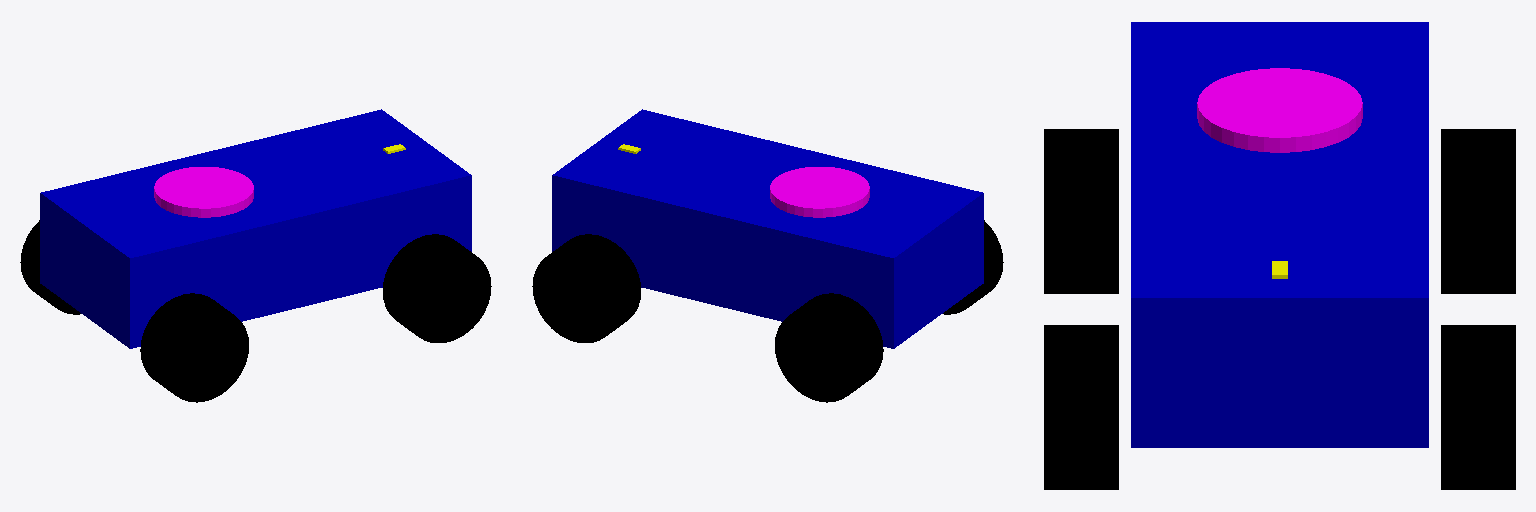
The robot description file, URDF, robot "blinky":
<?xml version="1.0"?>
<robot name="blinky">
  <link name="base_footprint" />

  <link name="base_link">
    <visual>
      <geometry>
        <box size=".395 .18 .1"/>
      </geometry>
      <material name="red">
        <color rgba="0 0 .8 .3"/>
      </material>
    </visual>
  </link>

  <joint name="base_link_joint" type="fixed">
    <parent link="base_footprint"/>
    <child link="base_link"/>
    <origin xyz="0 0 .1"/>
  </joint>

  <link name="rear_right_wheel">
    <visual>
      <geometry>
        <cylinder length=".045" radius=".05"/>
      </geometry>
      <material name="black">
        <color rgba="0 0 0 .7"/>
      </material>
      <origin xyz="0 -.02 0" rpy="1.57075 0 0"/>
    </visual>
  </link>

  <joint name="rear_right_wheel_joint" type="continuous">
    <axis xyz="0 1 0"/>
    <parent link="base_link"/>
    <child link="rear_right_wheel"/>
    <origin xyz="-.14 -.10 -.05"/>
  </joint>

  <link name="rear_left_wheel">
    <visual>
      <geometry>
        <cylinder length=".045" radius=".05"/>
      </geometry>
      <material name="black"/>
      <origin xyz="0 .02 0" rpy="1.57075 0 0"/>
    </visual>
  </link>

  <joint name="rear_left_wheel_joint" type="continuous">
    <axis xyz="0 1 0"/>
    <parent link="base_link"/>
    <child link="rear_left_wheel"/>
    <origin xyz="-.14 0.1 -.05"/>
  </joint>

  <link name="front_right_steering"/>

  <joint name="front_right_steering_joint" type="revolute">
    <limit lower="-1.57075" upper="1.57075" effort="-1" velocity="-1"/>
    <axis xyz="0 0 1"/>
    <parent link="base_link"/>
    <child link="front_right_steering"/>
    <origin xyz=".14 -0.1 -.05"/>
  </joint>

  <link name="front_right_wheel">
    <visual>
      <geometry>
        <cylinder length=".045" radius=".05"/>
      </geometry>
      <material name="black"/>
      <origin xyz="0 -.02 0" rpy="1.57075 0 0"/>
    </visual>
  </link>

  <joint name="front_right_wheel_joint" type="continuous">
    <axis xyz="0 1 0"/>
    <parent link="front_right_steering"/>
    <child link="front_right_wheel"/>
  </joint>

  <link name="front_left_steering"/>
 
  <joint name="front_left_steering_joint" type="revolute">
    <limit lower="-1.57075" upper="1.57075" effort="-1" velocity="-1"/>
    <axis xyz="0 0 1"/>
    <parent link="base_link"/>
    <child link="front_left_steering"/>
    <origin xyz=".14 .1 -.05"/>
  </joint>

  <link name="front_left_wheel">
    <visual>
      <geometry>
        <cylinder length=".045" radius=".05"/>
      </geometry>
      <material name="black"/>
      <origin xyz="0 .02 0" rpy="1.57075 0 0"/>
    </visual>
  </link>

  <joint name="front_left_wheel_joint" type="continuous">
    <axis xyz="0 1 0"/>
    <parent link="front_left_steering"/>
    <child link="front_left_wheel"/>
  </joint>

  <link name="steering_servo">
    <visual>
      <geometry>
        <box size=".04 .02 .01"/>
      </geometry>
      <material name="green">
        <color rgba="0 110 0 .5"/>
      </material>
    </visual>
  </link>

  <joint name="steering_servo_joint" type="fixed">
    <parent link="base_link"/>
    <child link="steering_servo"/>
    <origin xyz=".08 0 -.04"/>
  </joint>

  <transmission name="front_left_steering_trans">
    <type>transmission_interface/SimpleTransmission</type>
    <joint name="front_left_steering_joint">
      <hardwareInterface>hardware_interface/PositionJointInterface</hardwareInterface>
    </joint>
    <actuator name="steering_servo">
      <mechanicalReduction>-2.35</mechanicalReduction>
    </actuator>
  </transmission>

  <transmission name="front_right_steering_trans">
    <type>transmission_interface/SimpleTransmission</type>
    <joint name="front_right_steering_joint">
      <hardwareInterface>hardware_interface/PositionJointInterface</hardwareInterface>
    </joint>
    <actuator name="steering_servo">
      <mechanicalReduction>-2.35</mechanicalReduction>
    </actuator>
  </transmission>

  <transmission name="front_left_wheel_trans">
    <type>transmission_interface/SimpleTransmission</type>
    <joint name="front_left_wheel_joint">
      <hardwareInterface>hardware_interface/VelocityJointInterface</hardwareInterface>
    </joint>
    <actuator name="drive_motor">
      <mechanicalReduction>13.0</mechanicalReduction>
    </actuator>
  </transmission>

  <transmission name="front_right_wheel_trans">
    <type>transmission_interface/SimpleTransmission</type>
    <joint name="front_right_wheel_joint">
      <hardwareInterface>hardware_interface/VelocityJointInterface</hardwareInterface>
    </joint>
    <actuator name="drive_motor">
      <mechanicalReduction>13.0</mechanicalReduction>
    </actuator>
  </transmission>

  <transmission name="rear_left_wheel_trans">
    <type>transmission_interface/SimpleTransmission</type>
    <joint name="rear_left_wheel_joint">
      <hardwareInterface>hardware_interface/VelocityJointInterface</hardwareInterface>
    </joint>
    <actuator name="drive_motor">
      <mechanicalReduction>13.0</mechanicalReduction>
    </actuator>
  </transmission>

  <transmission name="rear_right_wheel_trans">
    <type>transmission_interface/SimpleTransmission</type>
    <joint name="rear_right_wheel_joint">
      <hardwareInterface>hardware_interface/VelocityJointInterface</hardwareInterface>
    </joint>
    <actuator name="drive_motor">
      <mechanicalReduction>13.0</mechanicalReduction>
    </actuator>
  </transmission>

  <link name="lidar">
    <visual>
      <geometry>
        <cylinder length=".02" radius=".05"/>
      </geometry>
      <material name="purple">
        <color rgba="50 0 100 .7"/>
      </material>
    </visual>
  </link> 

  <joint name="lidar_joint" type="fixed">
    <parent link="base_link"/>
    <child link="lidar"/>
    <origin xyz="-.06 0 .05"/>
  </joint>  

  <sensor name="lidar_sensor" update_rate="5">
    <parent link="lidar"/>
    <ray>
      <horizontal/>
    </ray>
  </sensor>

  <link name="imu">
    <visual>
      <geometry>
        <box size=".02 .01 .005"/>
      </geometry>
      <material name="orange">
        <color rgba="255 128 0 .7"/>
      </material>
    </visual>
  </link>

  <joint name="imu_joint" type="fixed">
    <parent link="base_link"/>
    <child link="imu"/>
    <origin xyz=".16 0 .05"/>
  </joint>
</robot>

--- Render facts (derived) ---
3 views of the same robot in one strip: view 1: azimuth 30°, elevation 25°; view 2: azimuth 150°, elevation 25°; view 3: azimuth 270°, elevation 25° (orthographic).
Robot: blinky — 11 links, 10 joints (2 revolute, 4 continuous, 4 fixed); root link base_footprint; default pose: all joints at 0.
Visible links, largest first — view 1: base_link, front_right_wheel, rear_right_wheel, lidar, rear_left_wheel; view 2: base_link, front_left_wheel, rear_left_wheel, lidar, rear_right_wheel; view 3: base_link, rear_right_wheel, rear_left_wheel, front_right_wheel, front_left_wheel, lidar.
Link boxes in pixels (bbox=[...]): base_link: bbox=[40, 109, 471, 348]; front_right_wheel: bbox=[383, 234, 491, 342]; rear_right_wheel: bbox=[140, 293, 248, 402]; lidar: bbox=[154, 167, 253, 217]; rear_left_wheel: bbox=[20, 220, 80, 314]; base_link: bbox=[552, 109, 983, 348]; front_left_wheel: bbox=[532, 234, 640, 342]; rear_left_wheel: bbox=[775, 293, 883, 402]; lidar: bbox=[770, 167, 869, 217]; rear_right_wheel: bbox=[943, 220, 1003, 314]; base_link: bbox=[1131, 22, 1428, 447]; rear_right_wheel: bbox=[1044, 129, 1118, 293]; rear_left_wheel: bbox=[1441, 129, 1515, 293]; front_right_wheel: bbox=[1044, 325, 1118, 489]; front_left_wheel: bbox=[1441, 325, 1515, 489]; lidar: bbox=[1197, 68, 1362, 152].
Size in the robot's own frame: 0.395 by 0.285 by 0.16 metres.
Geometry: primitives only (box / cylinder / sphere), no mesh files.
